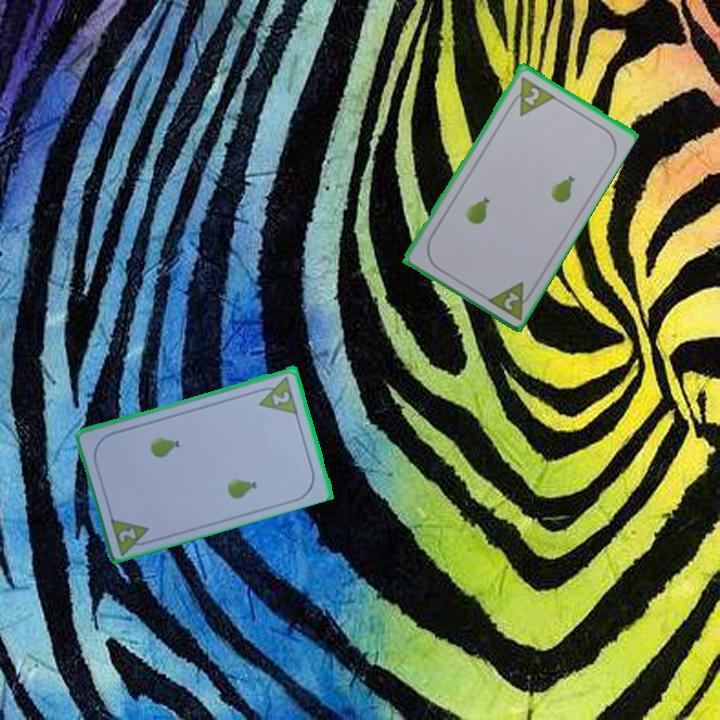2p: (483, 277, 538, 322), (107, 513, 157, 557), (520, 83, 542, 108), (269, 387, 293, 408)
